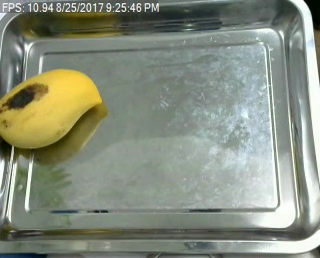Mango: (0, 69, 101, 153)
